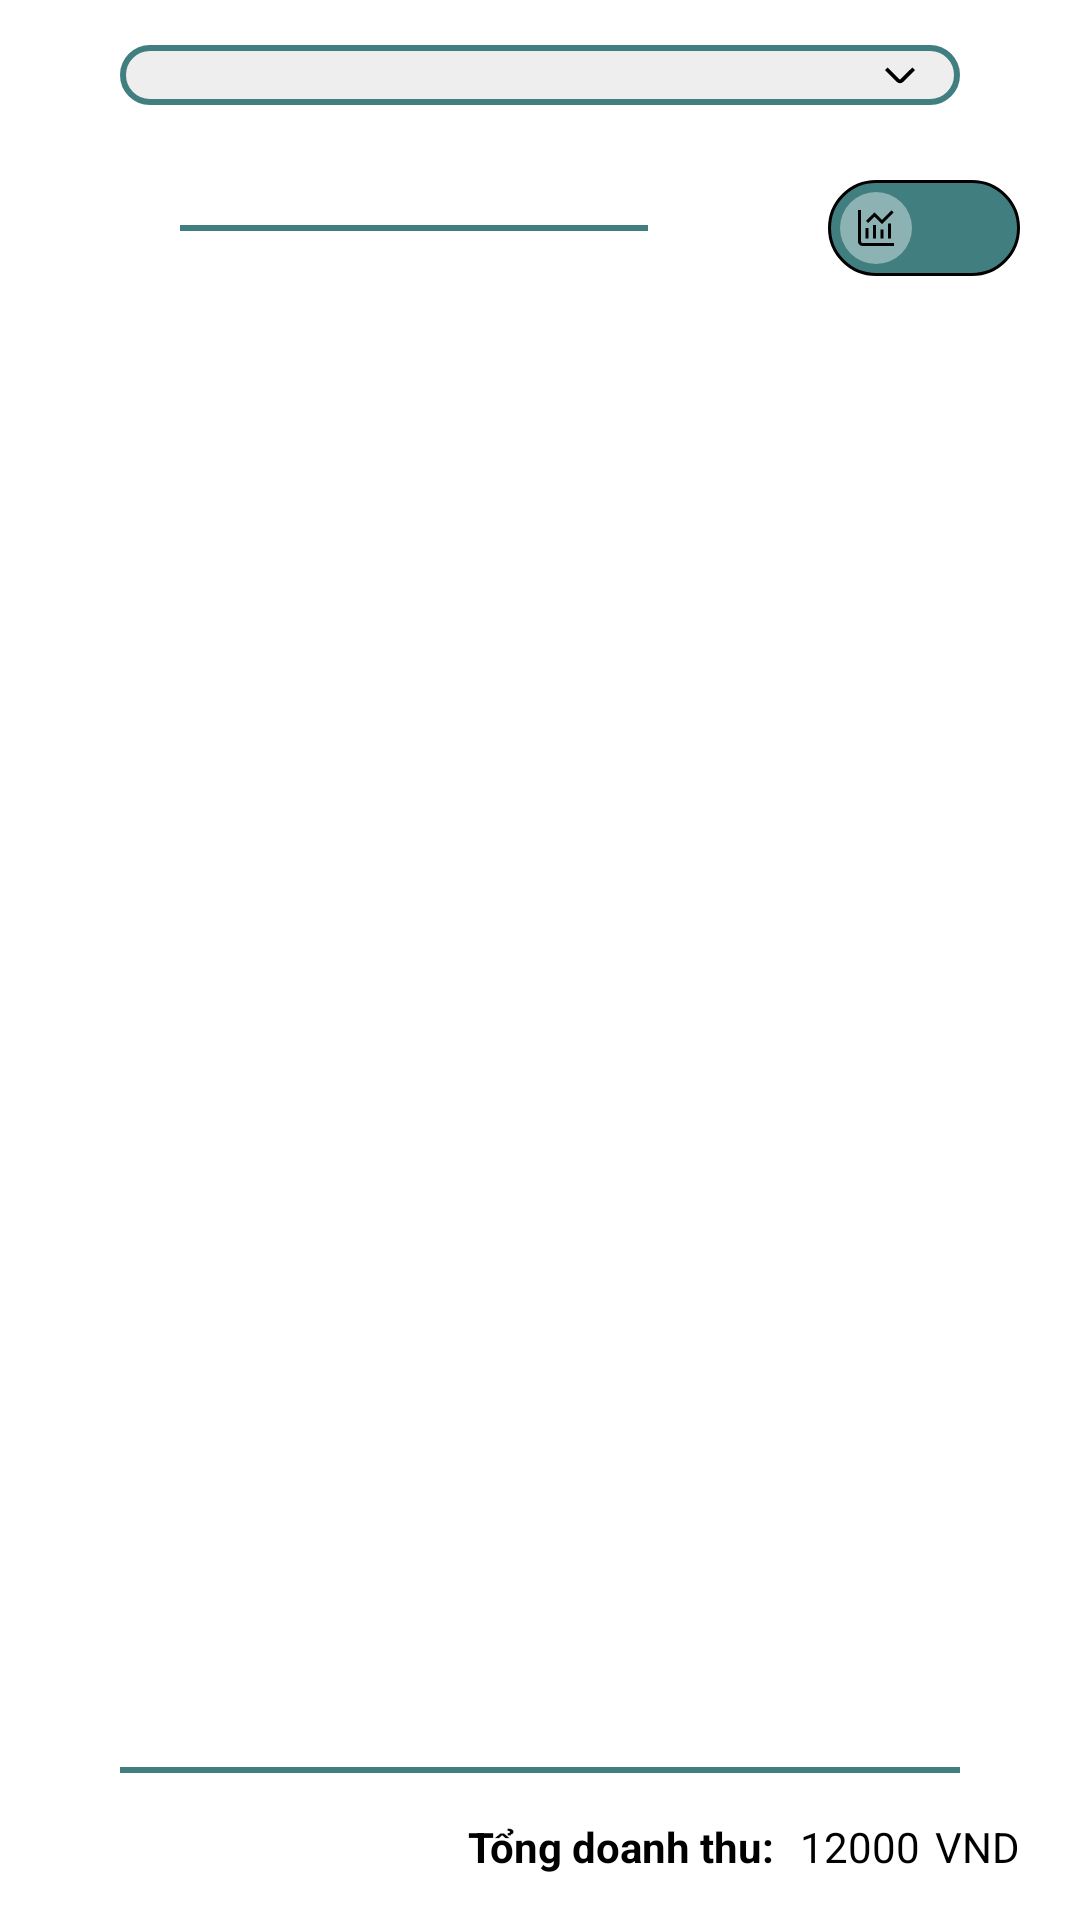

Point at icon controls on the screen. Image size 1080 x 1920, points as [x,y].
arrow down: [900,75]
